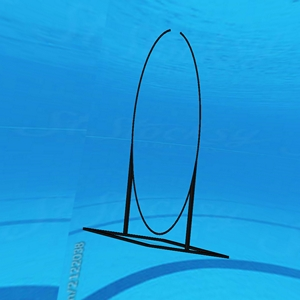circle: (79, 25, 232, 263)
